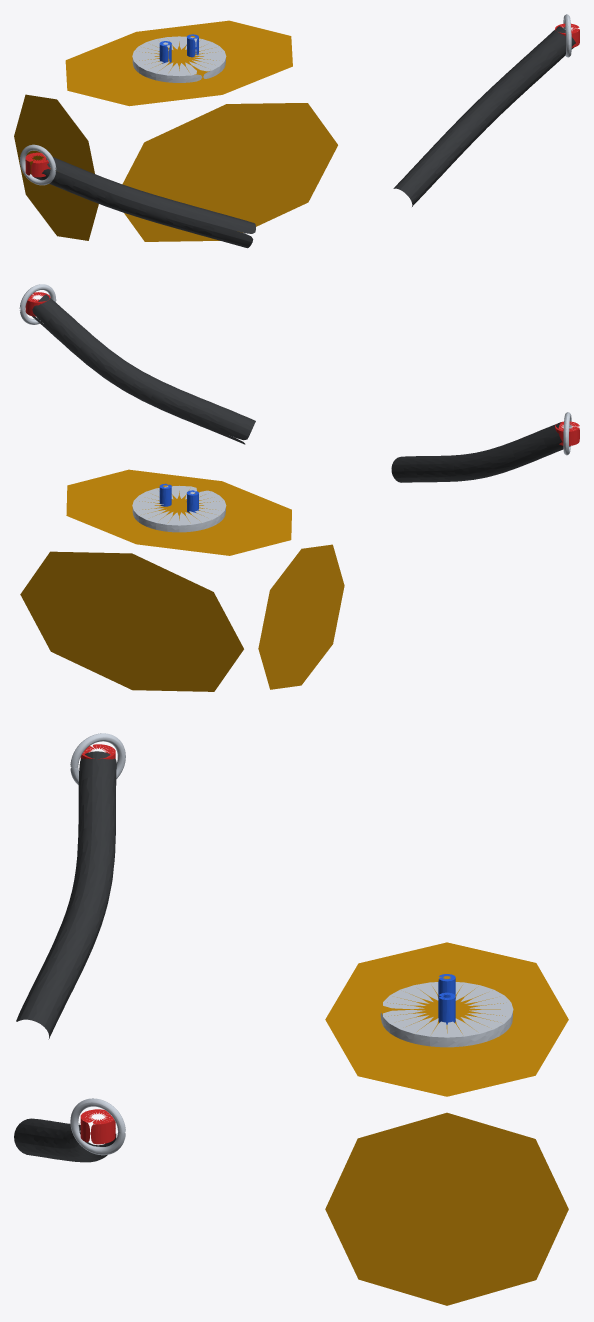
File: fuel_cell_system.glb
3 renders of one model, top to bottom at view 1: azimuth 30°, elevation 25°; view 2: azimuth 150°, elevation 25°; view 3: azimuth 270°, elevation 25°, orthographic. The views are drawn at different scales.
Parts seen in each view (by area): view 1: Fuel_Cell_Refueling_System_Assembly; view 2: Fuel_Cell_Refueling_System_Assembly; view 3: Fuel_Cell_Refueling_System_Assembly.
Boxes of the visible parts, x1,y1,x2,y2 form: Fuel_Cell_Refueling_System_Assembly: (14,14,579,248); Fuel_Cell_Refueling_System_Assembly: (19,284,579,691); Fuel_Cell_Refueling_System_Assembly: (14,733,568,1305).
Bounding box in the file's own units: 1.62 × 0.6254 × 1.02.
